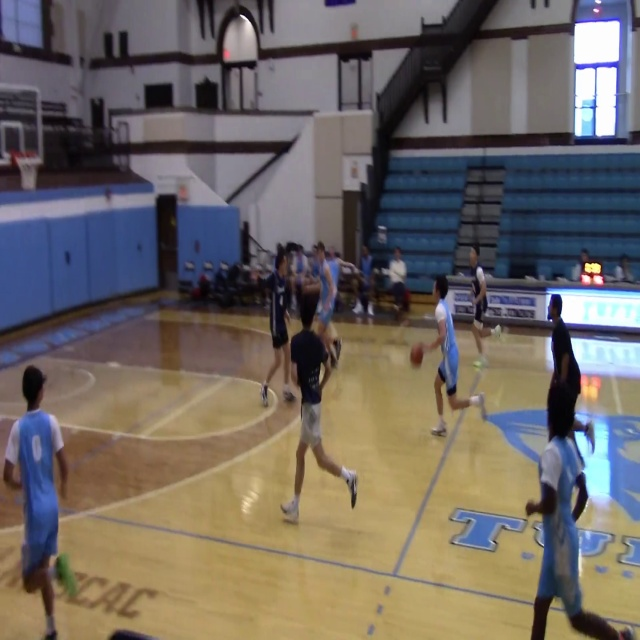Basketball: (410, 343, 423, 365), (472, 360, 482, 369)
